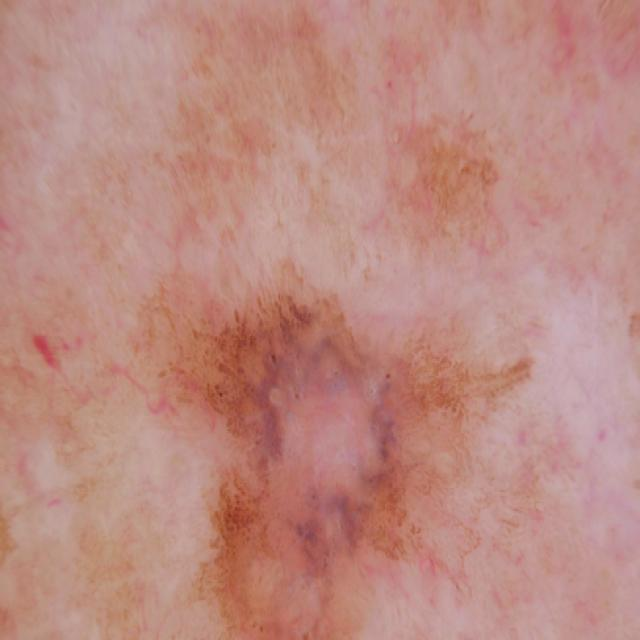Keratosis: (133, 182, 457, 640)
